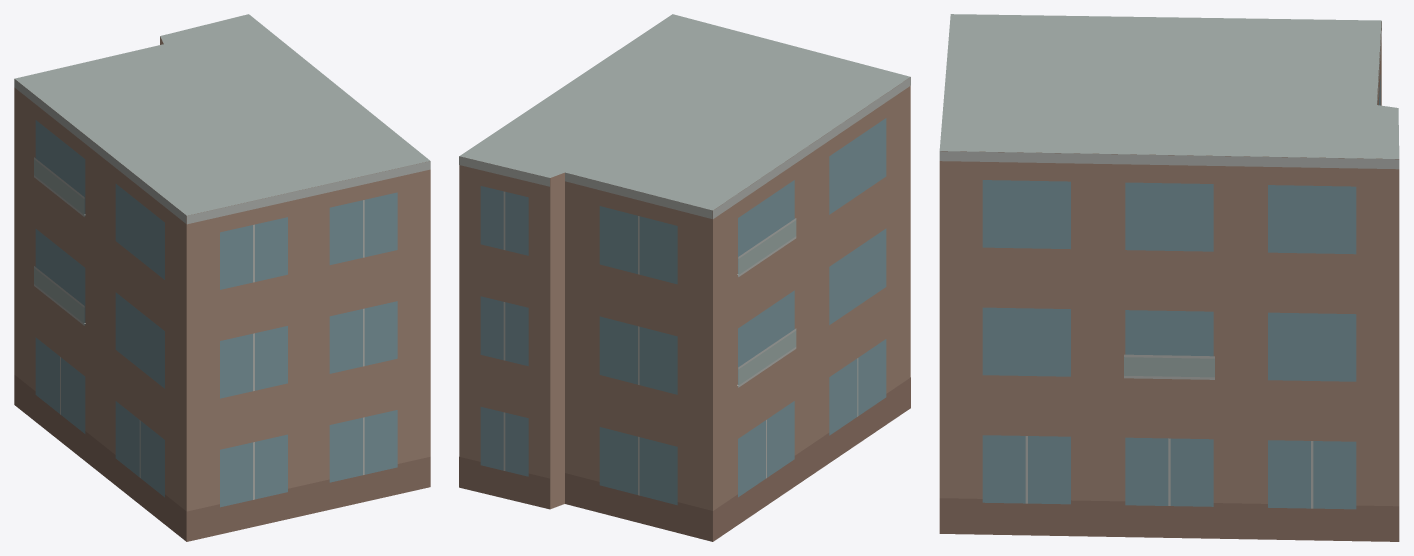
The model's file is survey-upis-32556422.glb.
3 renders of one model, left to right at view 1: azimuth 30°, elevation 25°; view 2: azimuth 150°, elevation 25°; view 3: azimuth 270°, elevation 25°, orthographic. The views are drawn at different scales.
Visible parts, largest first — view 1: survey-upis-32556422.tmp; view 2: survey-upis-32556422.tmp; view 3: survey-upis-32556422.tmp.
Boxes of the visible parts, x1=… form: survey-upis-32556422.tmp: x1=14, y1=14, x2=430, y2=541; survey-upis-32556422.tmp: x1=459, y1=14, x2=910, y2=541; survey-upis-32556422.tmp: x1=939, y1=14, x2=1399, y2=541.
Size of the model in its own units: 7.49 by 9.2 by 10.03.
